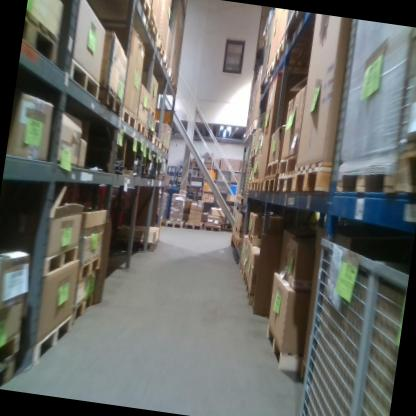pallet: (332, 145, 398, 204), (26, 306, 74, 369), (19, 9, 64, 72), (261, 322, 308, 377), (292, 154, 333, 198), (64, 58, 103, 102), (42, 237, 79, 280), (389, 142, 416, 200), (0, 320, 22, 390), (70, 287, 95, 331), (98, 82, 126, 117), (76, 247, 105, 280), (116, 232, 159, 254), (116, 96, 139, 136), (0, 350, 18, 387), (275, 167, 298, 195), (143, 9, 161, 43), (129, 0, 152, 26), (152, 37, 168, 67), (272, 32, 285, 67), (277, 154, 297, 176), (133, 117, 147, 142), (265, 156, 280, 179), (244, 283, 259, 305), (264, 174, 277, 196), (246, 232, 263, 247), (161, 55, 171, 77), (166, 67, 176, 89), (256, 176, 267, 195), (241, 271, 251, 291), (232, 223, 246, 237), (150, 134, 162, 149), (144, 126, 155, 142), (248, 176, 258, 193), (249, 117, 258, 135), (203, 223, 221, 232), (164, 220, 182, 228), (184, 222, 202, 230), (248, 146, 259, 159), (234, 234, 243, 248), (238, 262, 246, 277), (243, 127, 249, 143), (159, 140, 165, 152), (163, 146, 169, 154)
stillage: (294, 230, 379, 416), (354, 251, 411, 416), (239, 144, 251, 197)
